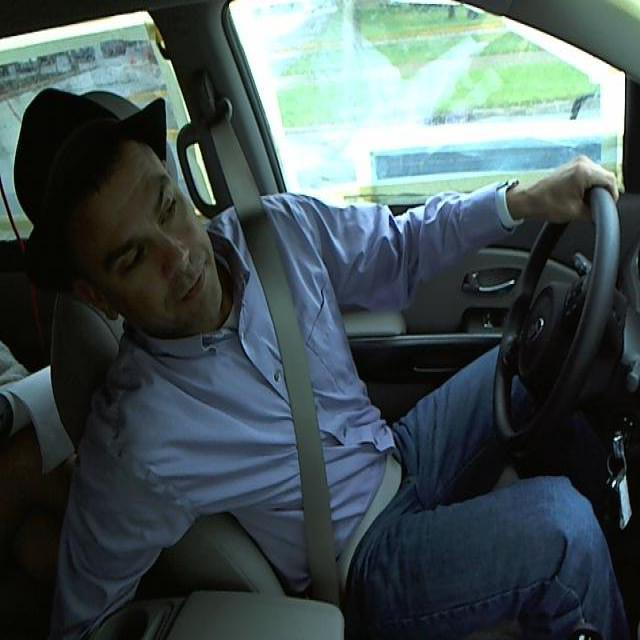seatbelt: (230, 222, 396, 590)
